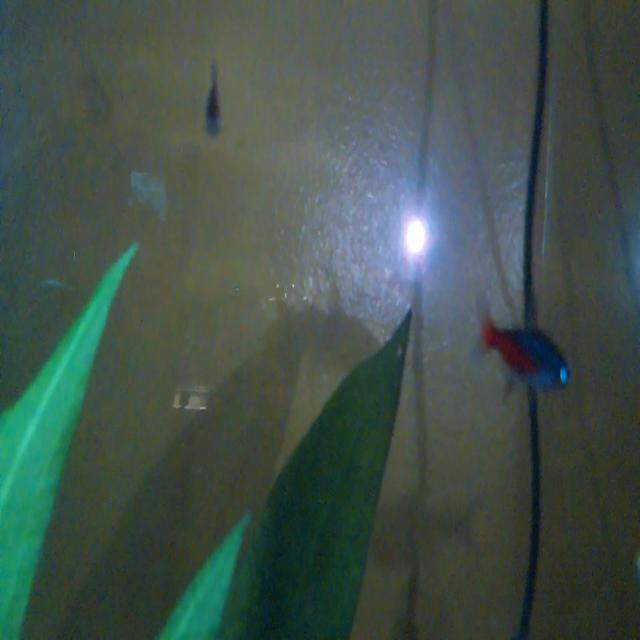fish: (468, 285, 571, 415), (196, 50, 235, 155)
